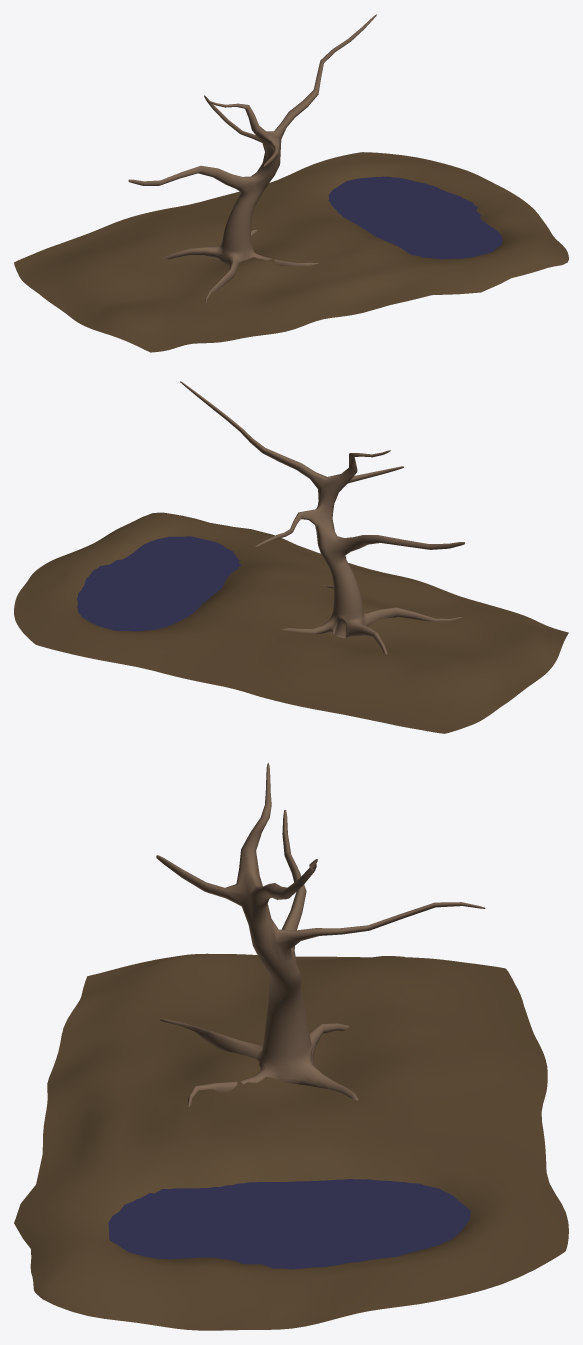
Rendered from bonsai_scene.fbx.
3 views of the same model, one above another, from view 1: azimuth 30°, elevation 25°; view 2: azimuth 150°, elevation 25°; view 3: azimuth 270°, elevation 25° (orthographic). The views are drawn at different scales.
Visible parts, largest first — view 1: ground, water, tree; view 2: ground, water, tree; view 3: ground, water, tree.
Boxes of the visible parts, x1,y1,x2,y2 form: ground: [14, 152, 568, 352]; water: [328, 176, 502, 259]; tree: [128, 14, 376, 306]; ground: [14, 512, 568, 733]; water: [77, 536, 241, 631]; tree: [180, 381, 464, 654]; ground: [14, 953, 568, 1330]; water: [108, 1179, 470, 1269]; tree: [156, 763, 485, 1106].
Bounding box in the file's own units: 1238 × 608 × 780.
